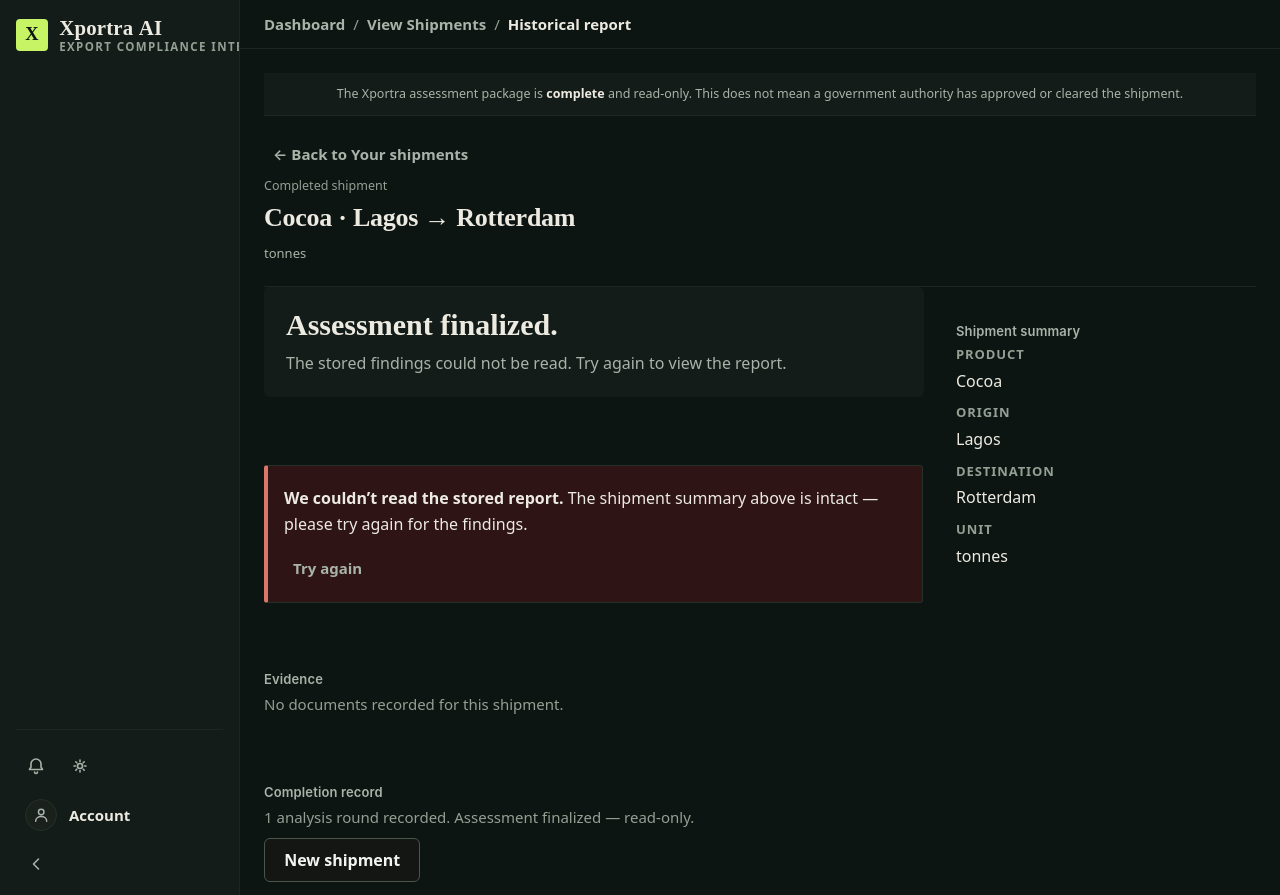
Test: historical report › retries a failed report read with the profile intact
Expected: the message is shown, [264, 465, 923, 603]
Expected: the text "Cocoa" is shown, [956, 370, 1002, 392]
Step 1. Click the button "Try again" → (328, 568), box [284, 546, 371, 590]
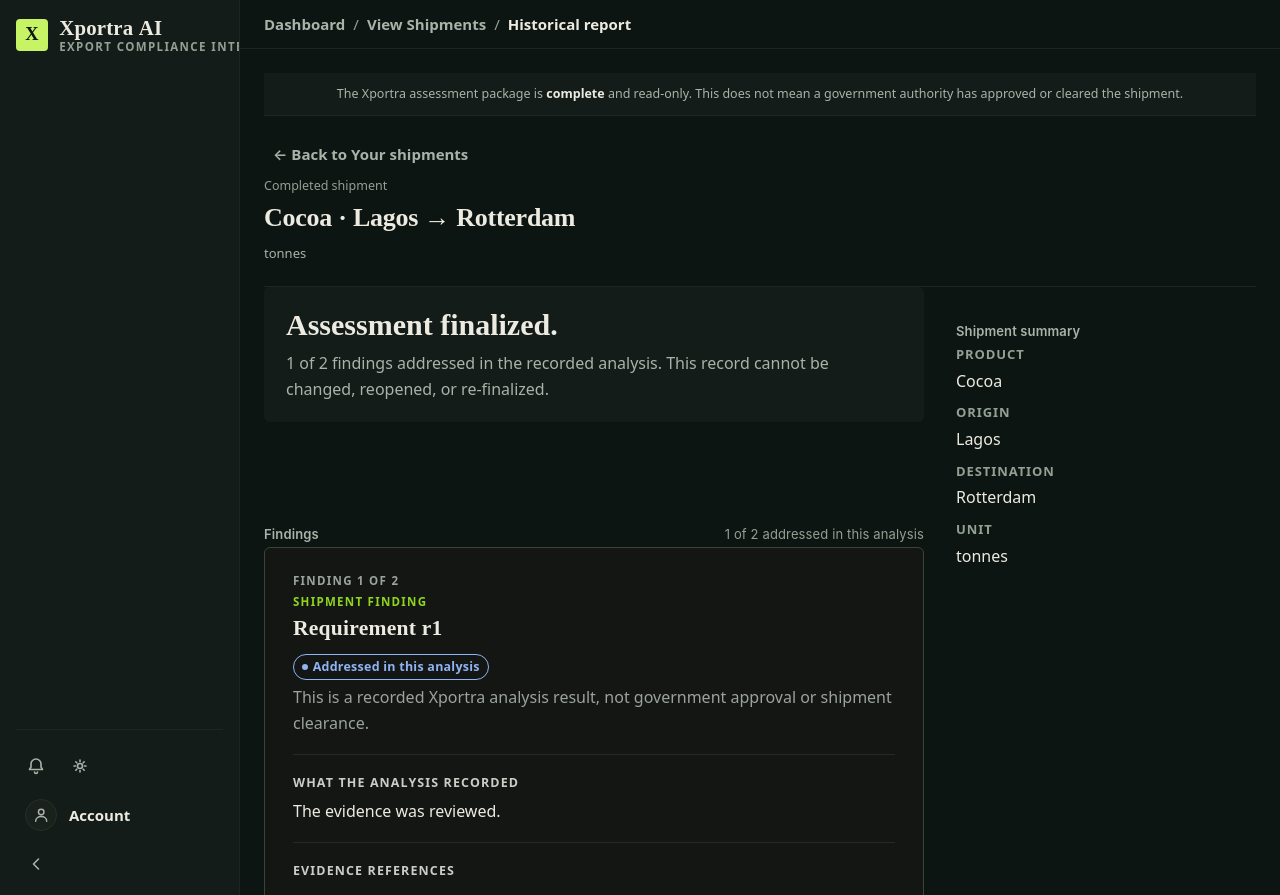
Expected: the text "1 of 2 findings addressed in the recorded analysis" is shown, [286, 352, 829, 400]
